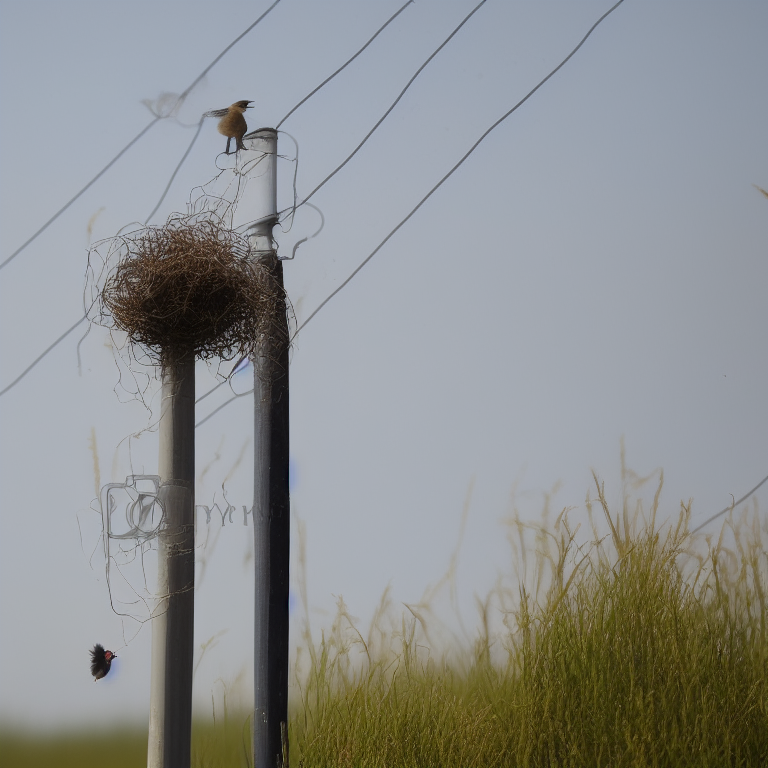nest: (101, 231, 273, 353)
